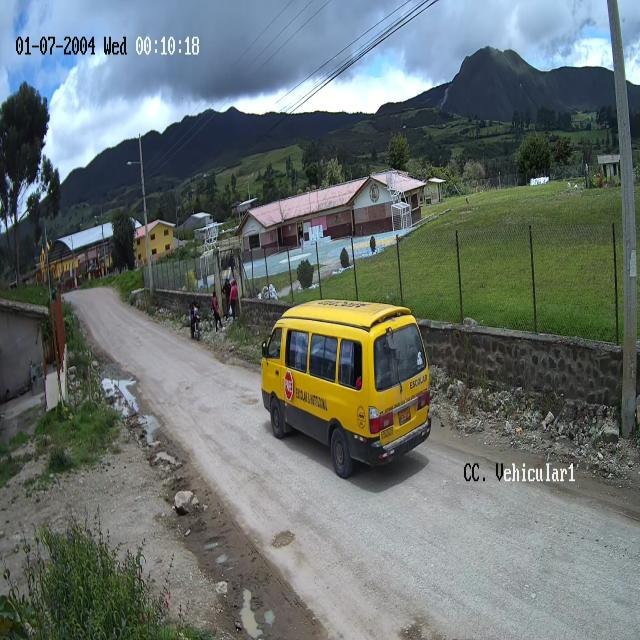BUS: (260, 300, 431, 478)
